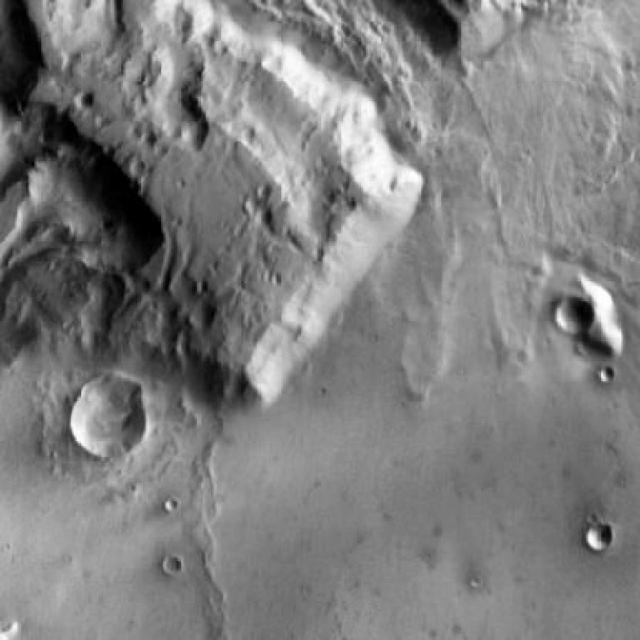crater: (64, 380, 145, 462), (553, 297, 589, 332), (581, 525, 608, 552), (188, 304, 214, 330), (73, 92, 92, 110), (161, 558, 179, 576), (596, 366, 613, 382)
